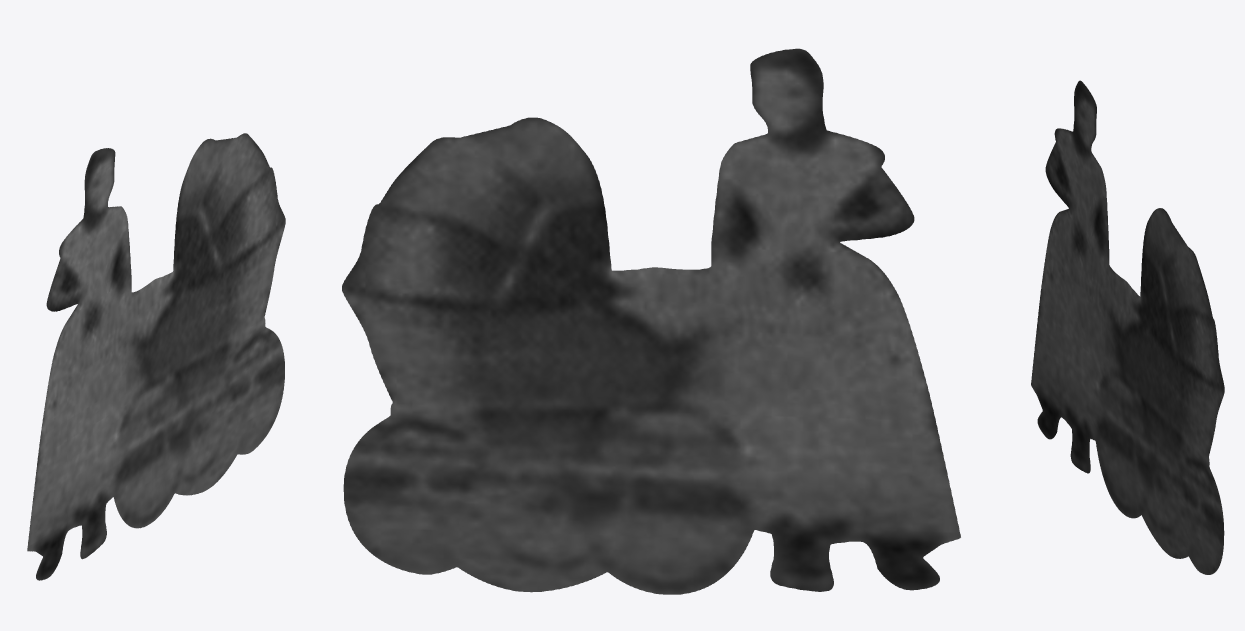
File: Old_mother_with_baby.FBX
3 renders of one model, left to right at view 1: azimuth 30°, elevation 25°; view 2: azimuth 150°, elevation 25°; view 3: azimuth 270°, elevation 25°, orthographic. The views are drawn at different scales.
Parts seen in each view (by area): view 1: mother_with_baby; view 2: mother_with_baby; view 3: mother_with_baby.
Part boxes in pixels (x1,y1,x2,y2): mother_with_baby: [27, 133, 285, 580]; mother_with_baby: [342, 48, 960, 594]; mother_with_baby: [1031, 80, 1224, 574].
Size of the model in its own units: 160 by 170 by 77.16.
1 material, 1 textured.
